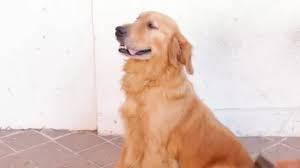Bulldog: (99, 6, 266, 168)
